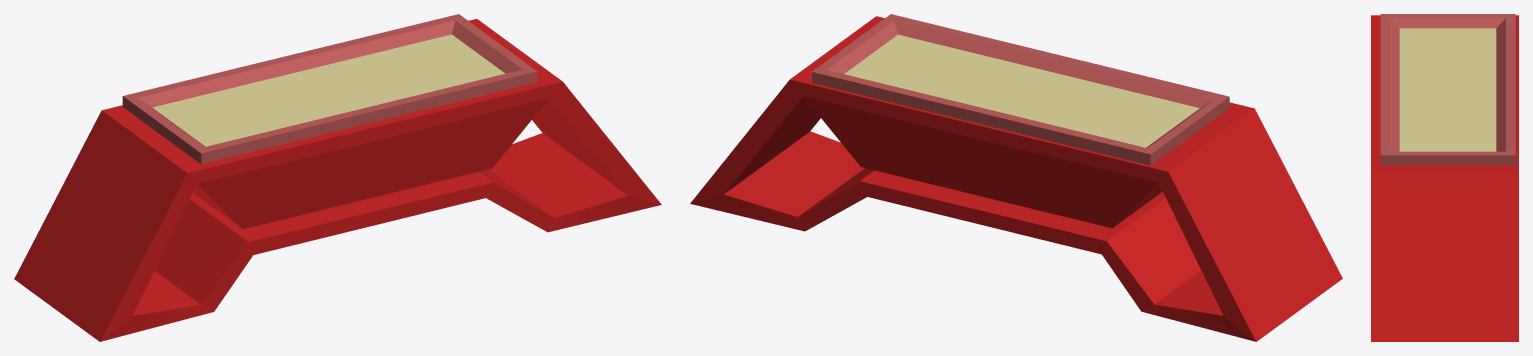
File: Planter.fbx
3 renders of one model, left to right at view 1: azimuth 30°, elevation 25°; view 2: azimuth 150°, elevation 25°; view 3: azimuth 270°, elevation 25°, orthographic. The views are drawn at different scales.
Visible parts, largest first — view 1: Planter; view 2: Planter; view 3: Planter.
Boxes of the visible parts, x1=… form: Planter: x1=14, y1=14, x2=661, y2=341; Planter: x1=690, y1=14, x2=1342, y2=341; Planter: x1=1371, y1=14, x2=1518, y2=341.
Size of the model in its own units: 343 by 93.6 by 90.75.
